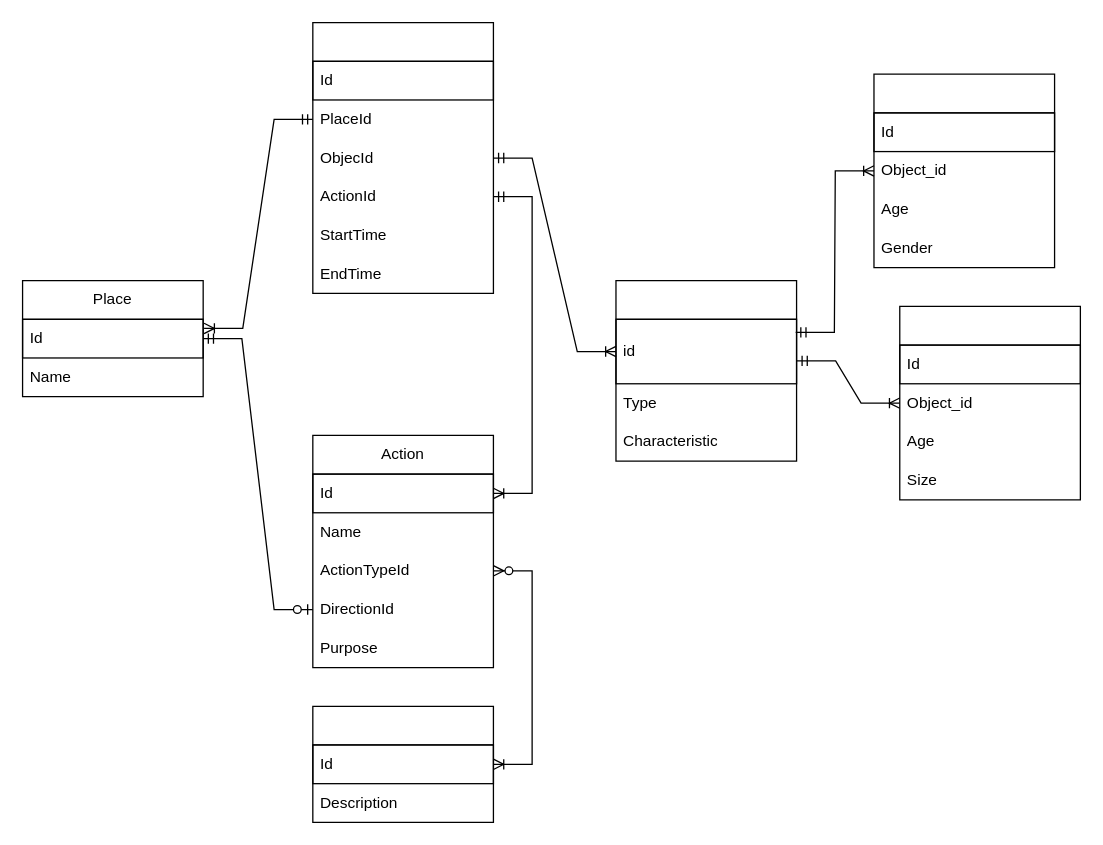
This 1103x845 diagram has some shape labels left out. The box of each missing label's shape, as (x1, y1, x2, y2) in pixels:
AcionScene: (312, 21, 493, 293)
ActionTypes: (312, 705, 493, 822)
Animal: (898, 305, 1080, 500)
Human: (873, 73, 1055, 268)
Object: (615, 279, 797, 461)
